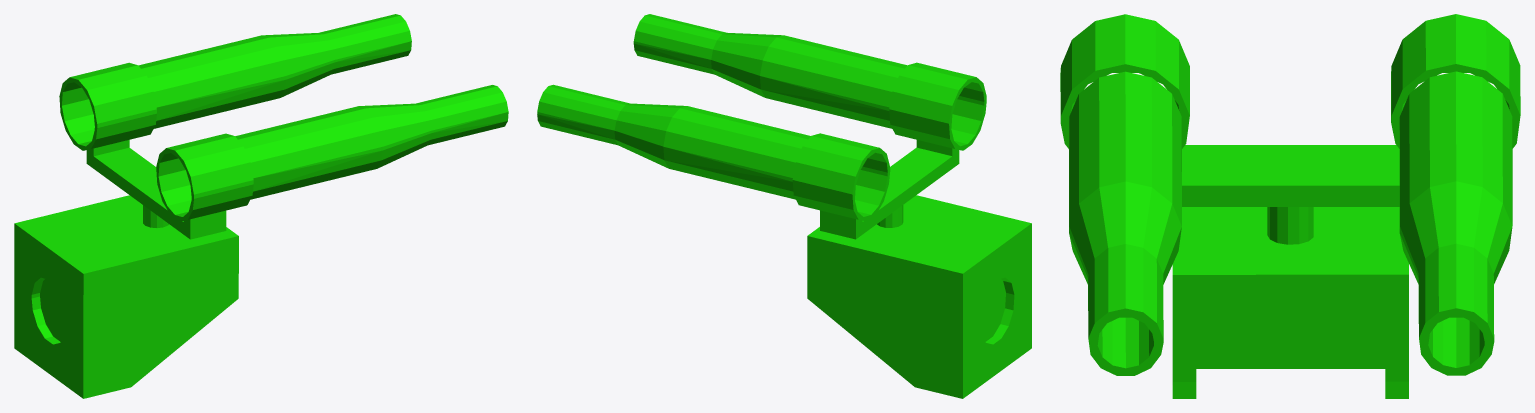
File: gun.dae
3 renders of one model, left to right at view 1: azimuth 30°, elevation 25°; view 2: azimuth 150°, elevation 25°; view 3: azimuth 270°, elevation 25°, orthographic. The views are drawn at different scales.
Parts seen in each view (by area): view 1: gun.001; view 2: gun.001; view 3: gun.001.
Boxes of the visible parts, x1,y1,x2,y2 form: gun.001: (14,14,508,398); gun.001: (537,14,1031,398); gun.001: (1060,14,1520,398).
Bounding box in the file's own units: 0.0335 × 0.0195 × 0.0192.
